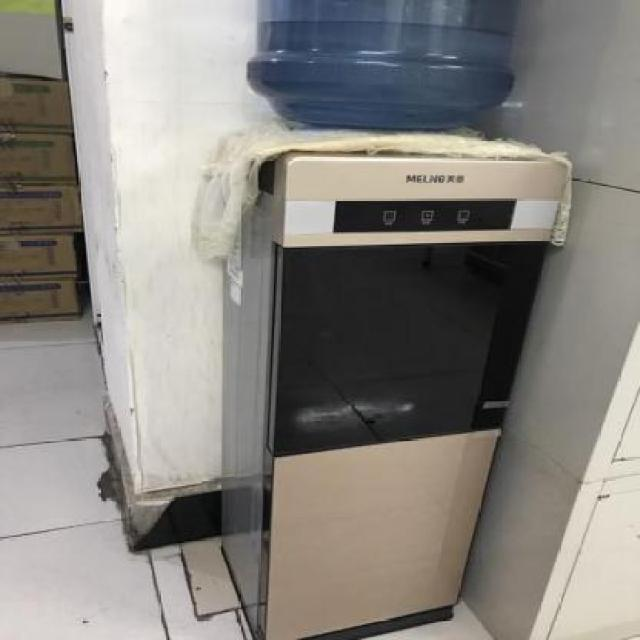cooler: (206, 0, 569, 640)
